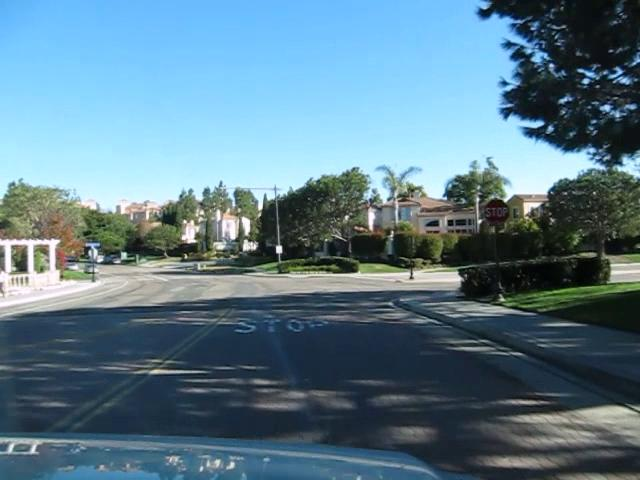stop: (482, 197, 510, 227)
